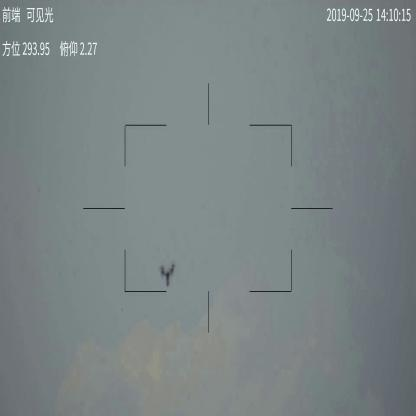uav: (159, 258, 177, 285)
